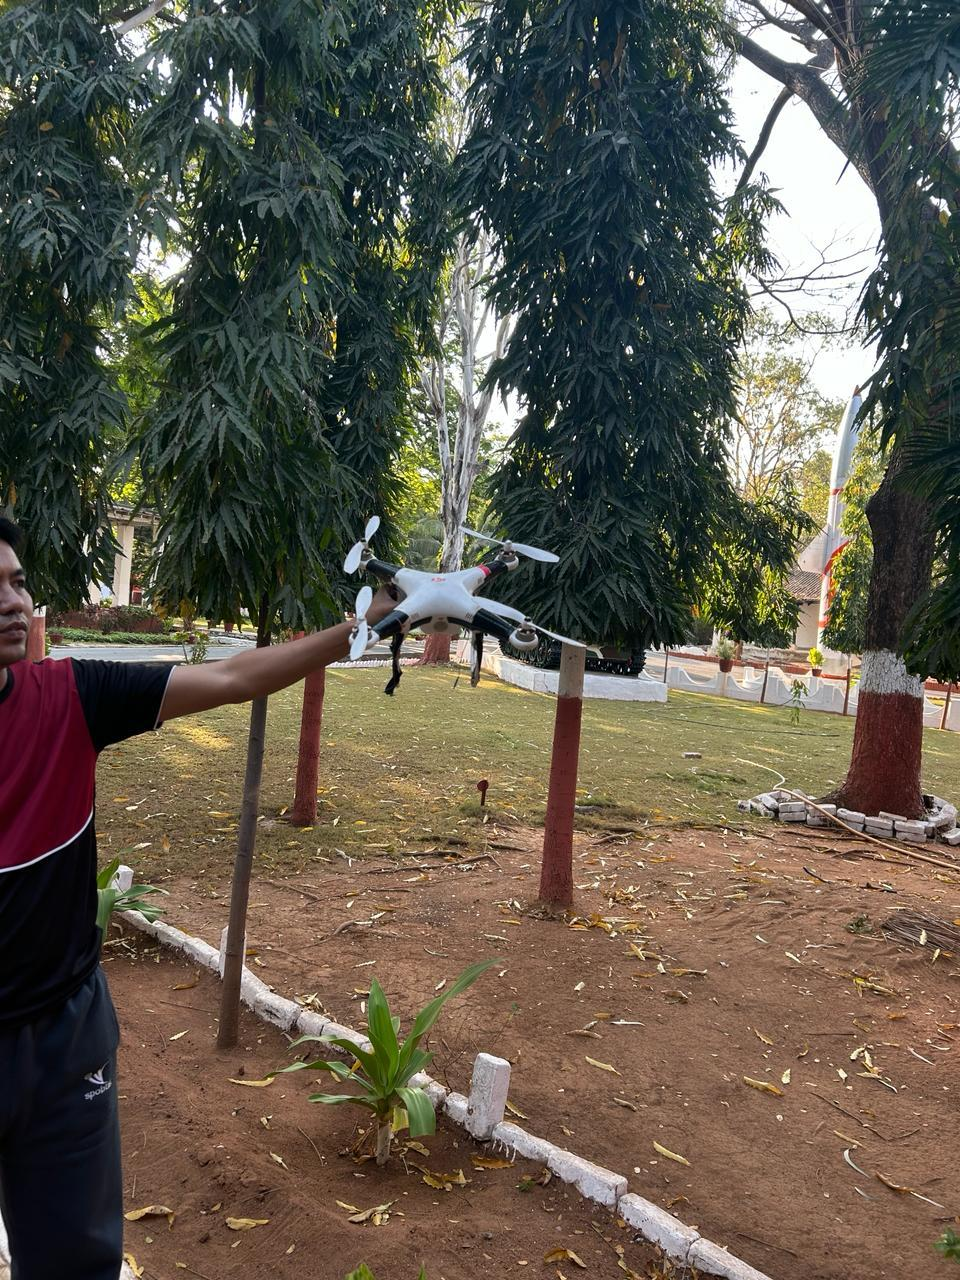drone: (314, 478, 604, 703)
